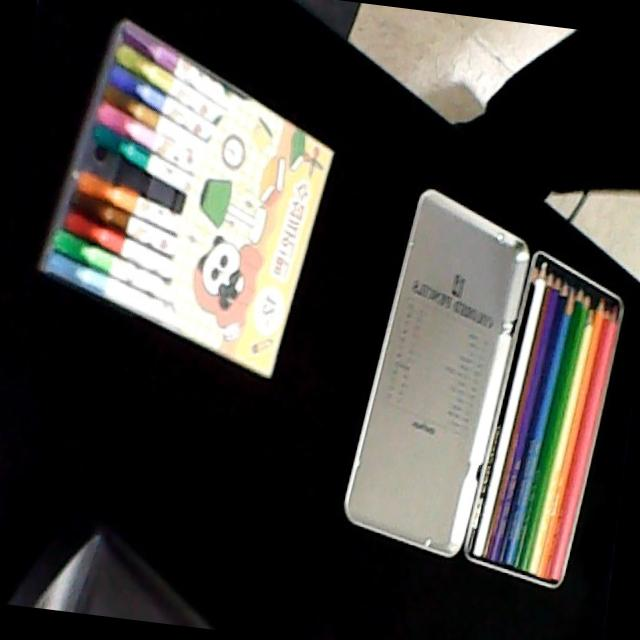color: (456, 244, 632, 597)
signpen: (32, 6, 339, 387)
